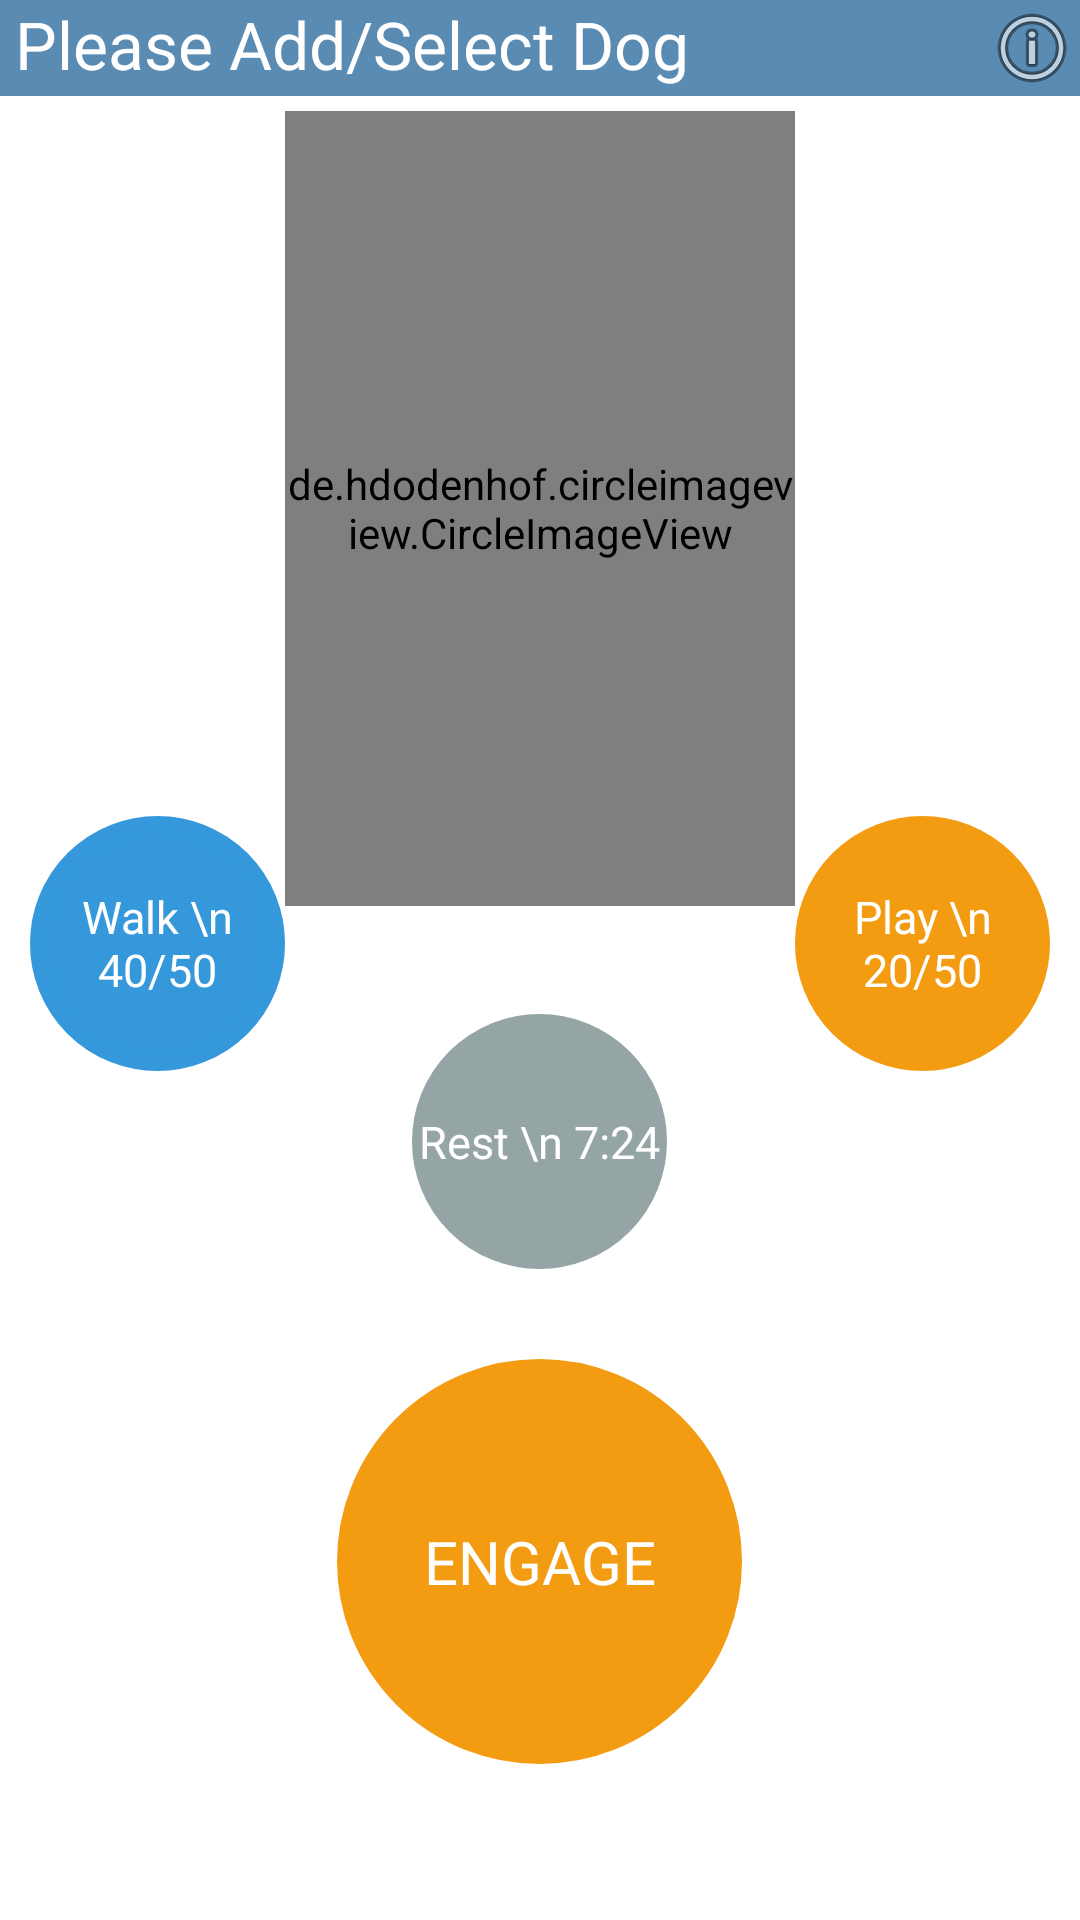

Named icons in this screenshot (1080px×1920px) and their centers, (x=x, y=y):
info details: (x=1032, y=48)
